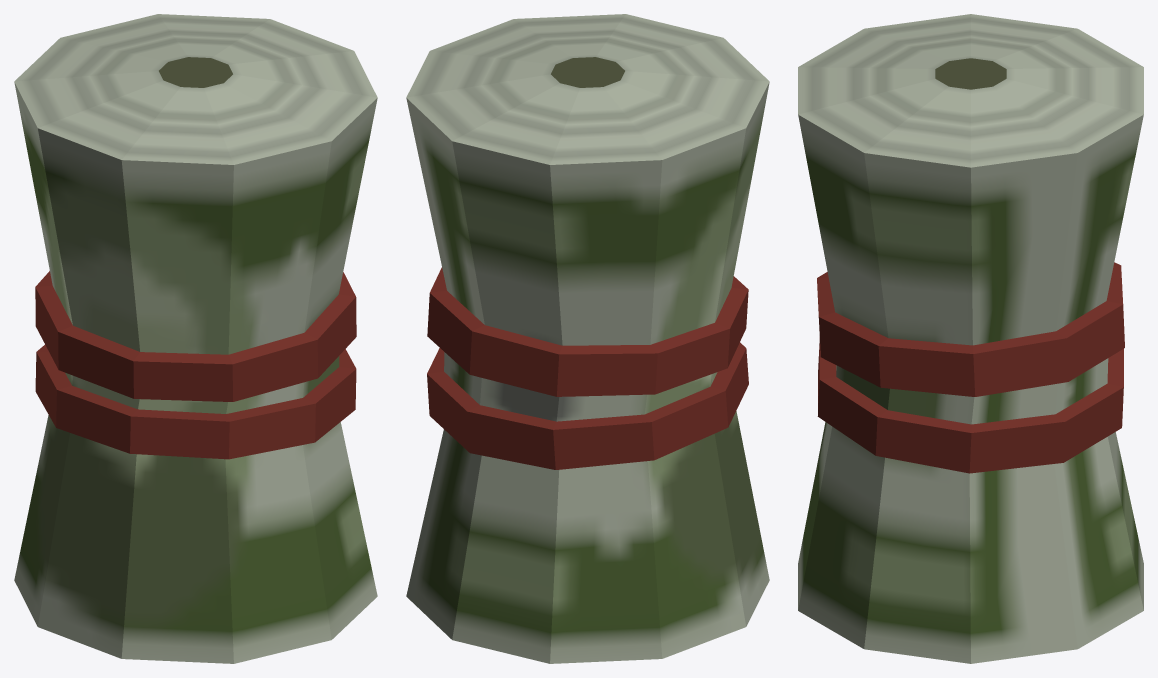
File: SM_Prop_Money_02.fbx
The picture shows the model from 3 angles, left to right: view 1: azimuth 30°, elevation 25°; view 2: azimuth 150°, elevation 25°; view 3: azimuth 270°, elevation 25°; orthographic projection.
Parts seen in each view (by area): view 1: SM_Prop_Money_02; view 2: SM_Prop_Money_02; view 3: SM_Prop_Money_02.
Boxes of the visible parts, x1,y1,x2,y2 form: SM_Prop_Money_02: (14, 14, 377, 663); SM_Prop_Money_02: (406, 14, 769, 663); SM_Prop_Money_02: (798, 14, 1143, 663).
Bounding box in the file's own units: 8.17 × 12.72 × 7.77.
